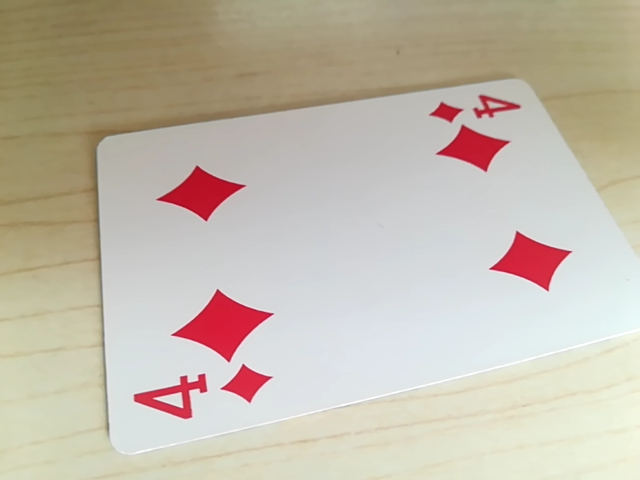fk 4: (130, 359, 277, 435), (427, 89, 526, 129)
